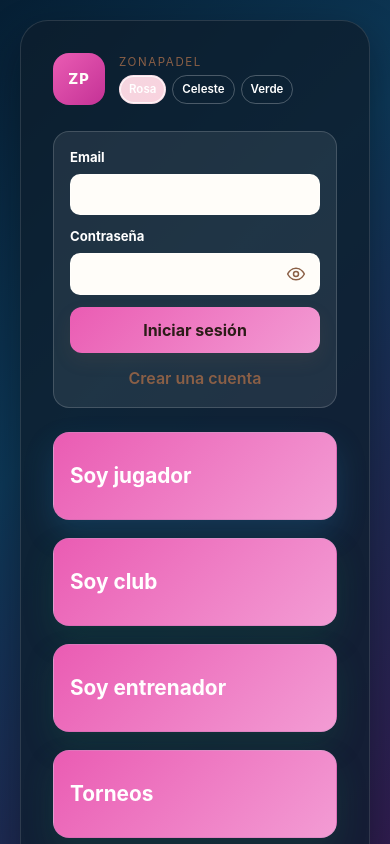
Scenario: App › opens the club data editor
The image size is (390, 844).
What coordinates should you click on to do the following:
click the button "Soy club"
I would click on:
 (114, 582)
Its box is [53,538,337,626].
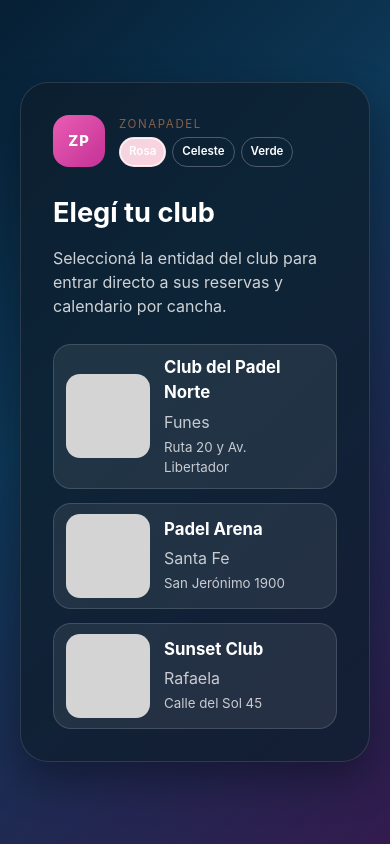
What coordinates should you click on to do the following:
click the button "Club del Padel Norte Funes Ruta 20 y Av. Libertador"
I would click on:
 (195, 416)
Its box is [53,344,337,488].
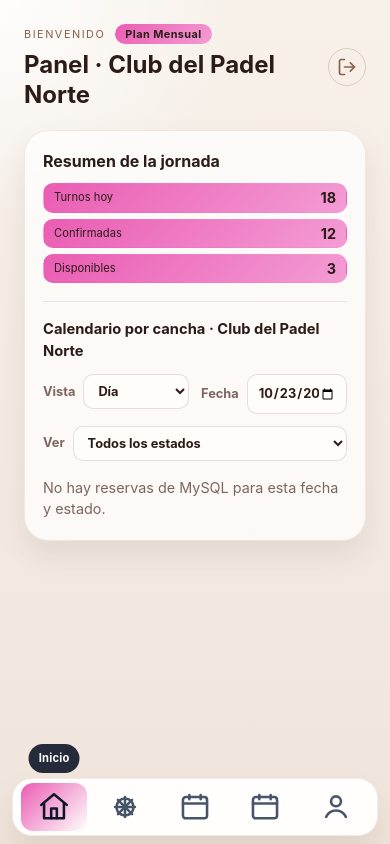
What coordinates should you click on to do the following:
click the button named "Perfil"
I would click on:
 (336, 807)
Its box is [303,783,369,831].
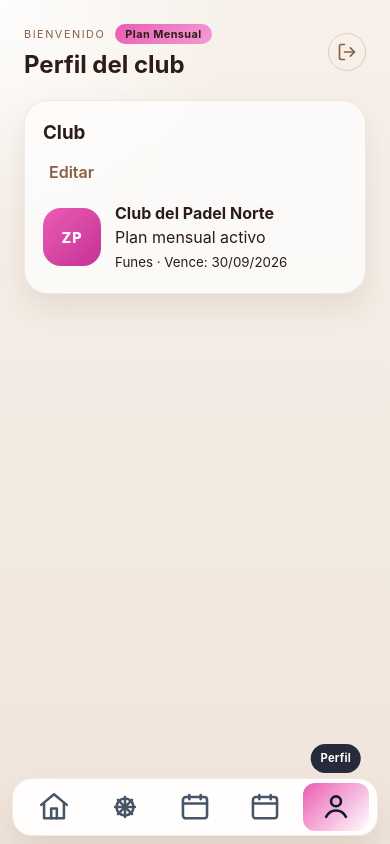
What coordinates should you click on to do the following:
click the button "Editar"
I would click on:
 (72, 172)
Its box is [43,159,100,185].
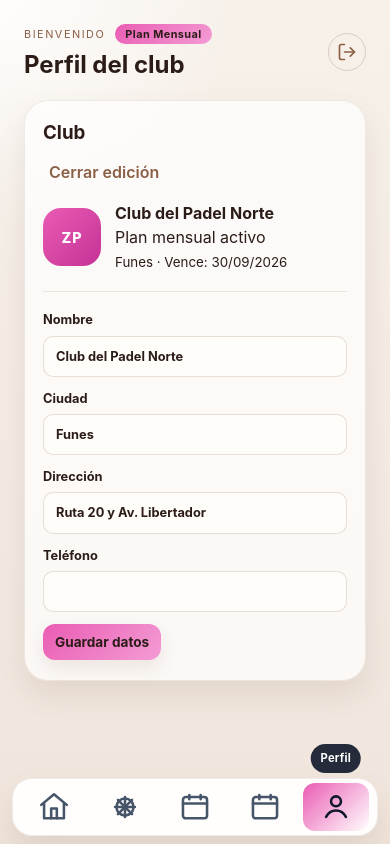
Expected: the field labelled "Nombre" is shown, [43,336,347,377]
Expected: the field labelled "Ciudad" is shown, [43,414,347,455]
Expected: the field labelled "Dirección" is shown, [43,492,347,534]
